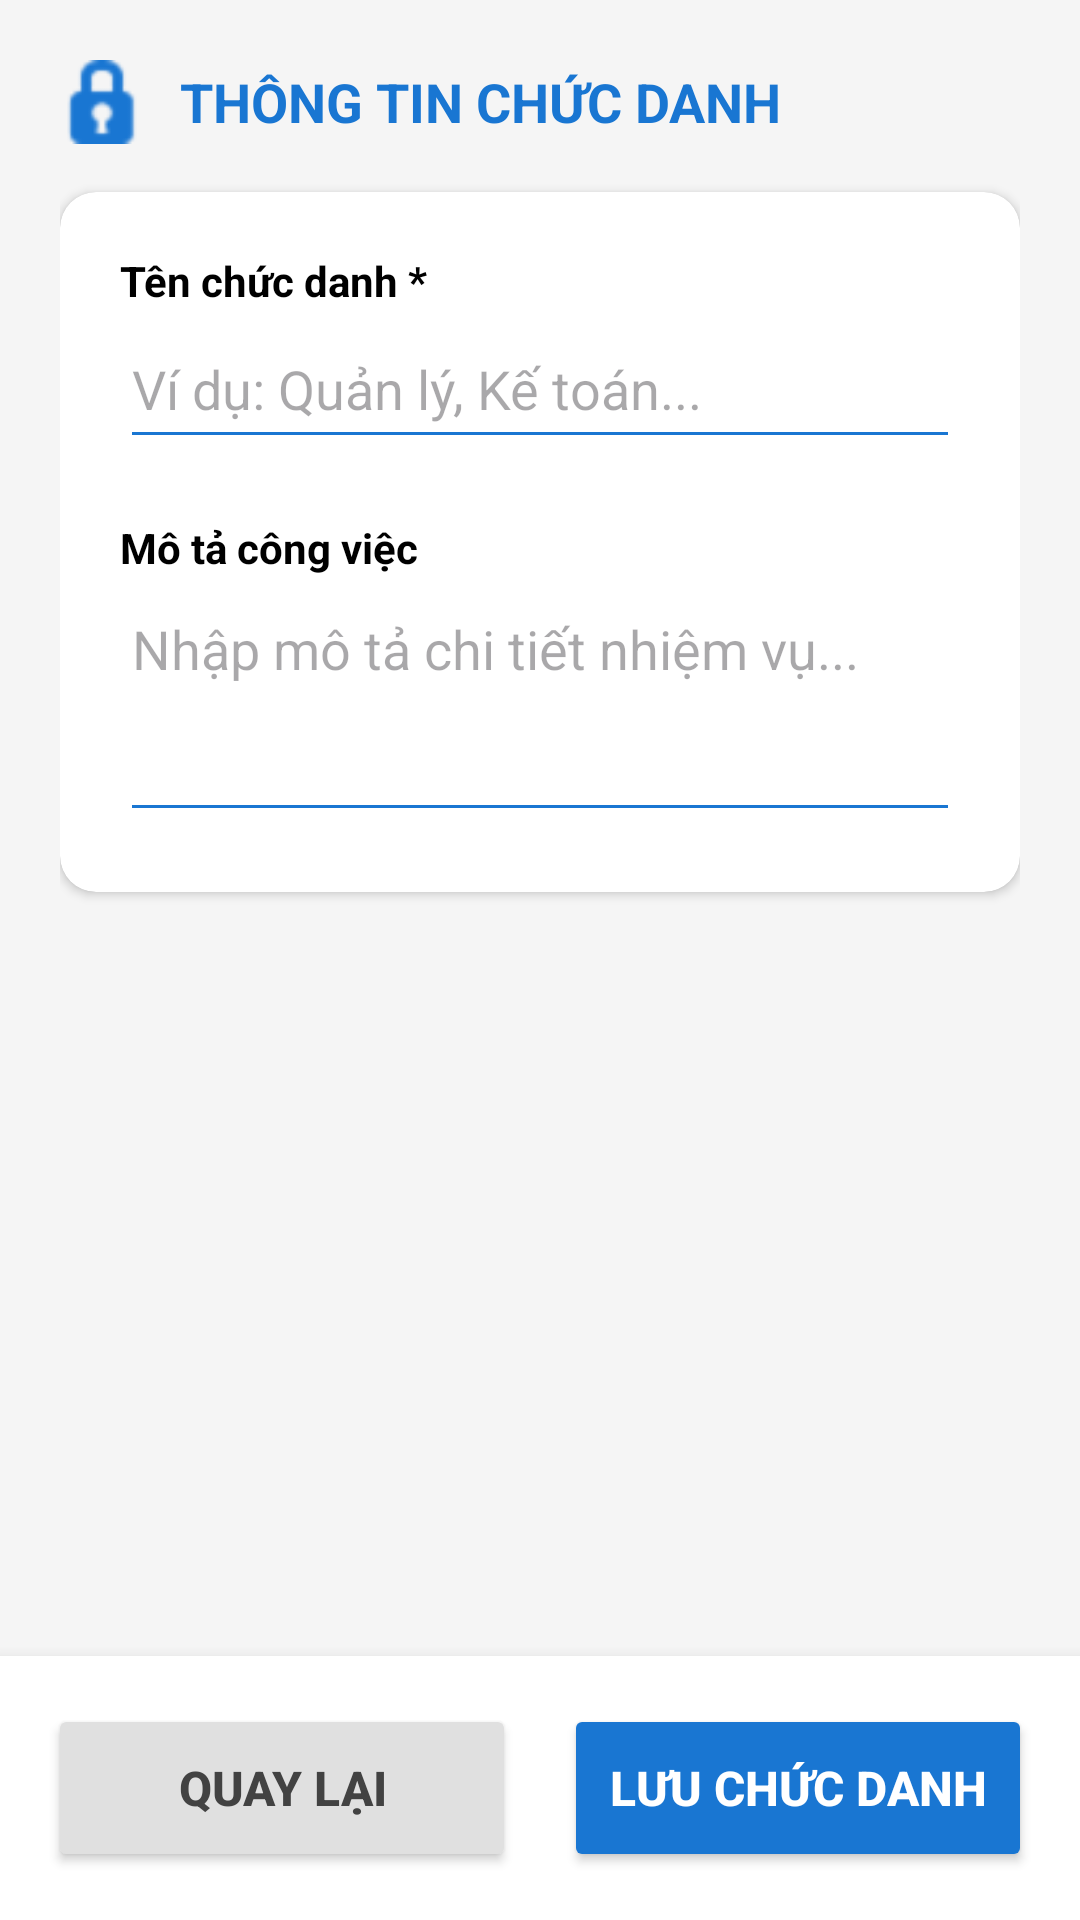

Icon bounding boxes for this 1080px x 1920px phone screenshot, format (x1, y1, x2, y2):
secure: (69, 60, 135, 144)
